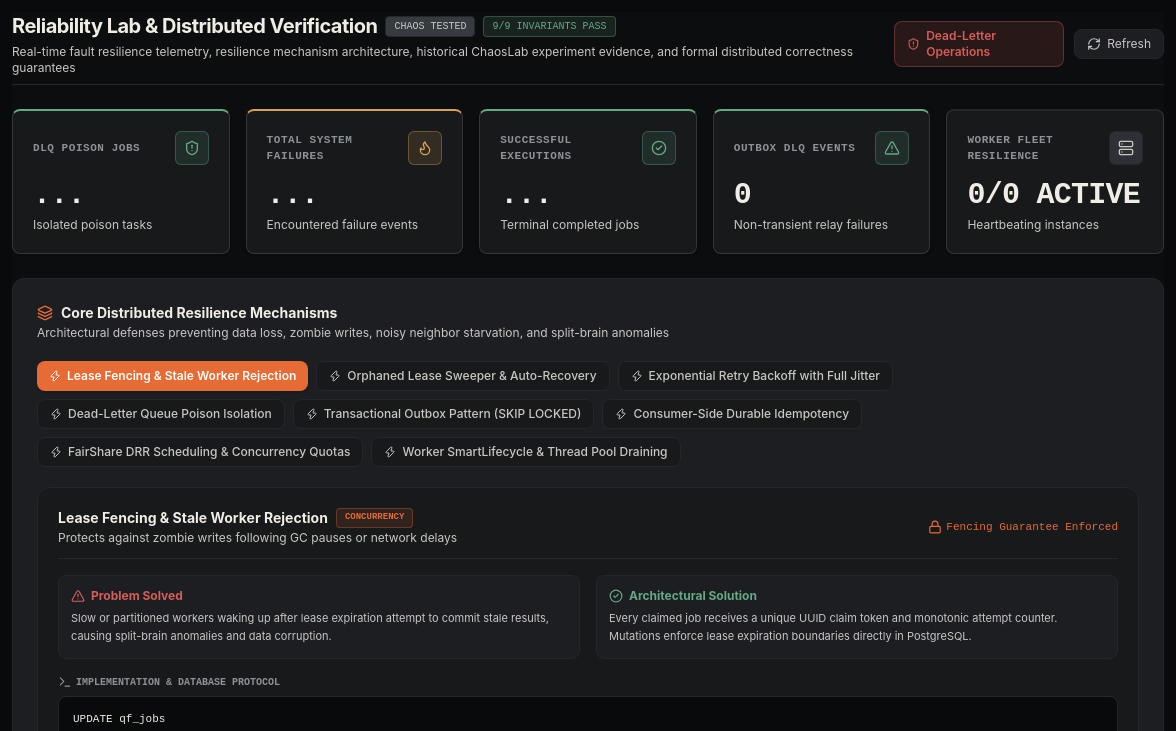
ReliabilityLabPage › switches resilience mechanism detail tabs when clicked
The width and height of the screenshot is (1176, 731).
Click the button "Consumer-Side Durable Idempotency": (732, 414) [602,399,862,429]
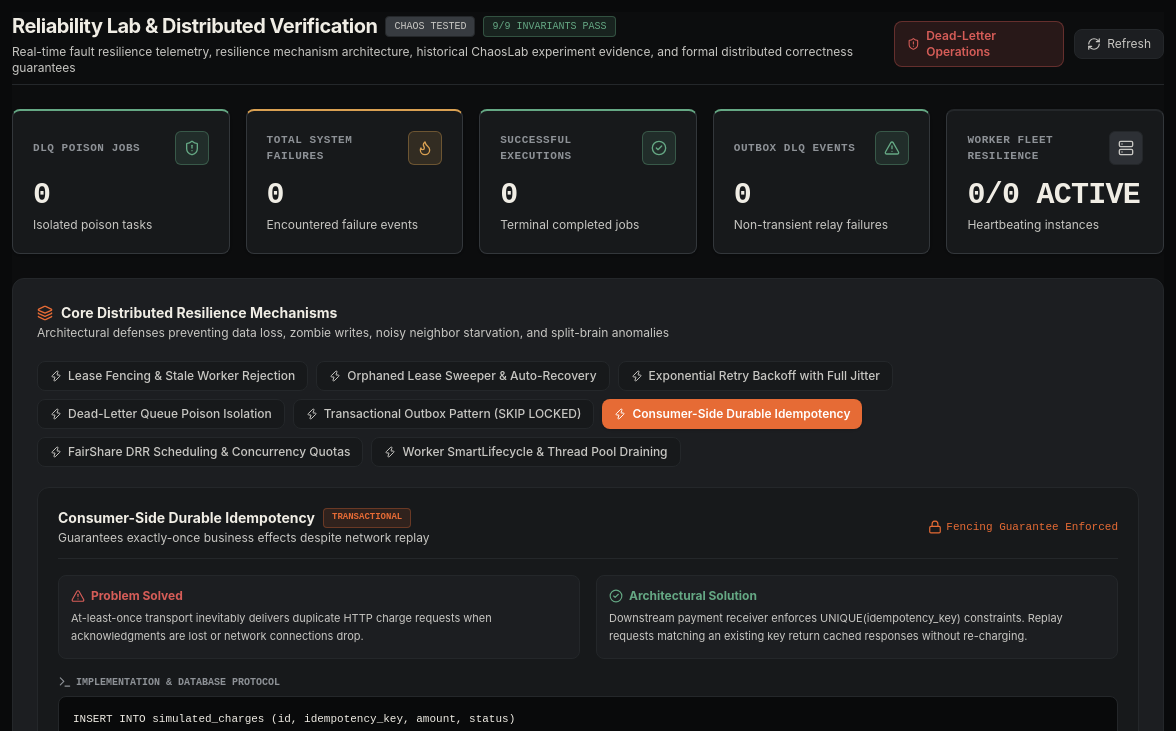
Expected: the text "Guarantees exactly-once business effects despite network replay" is shown, [58,530,430,546]
Expected: the text "UNIQUE(idempotency_key)" is shown, [609,611,1063,643]
